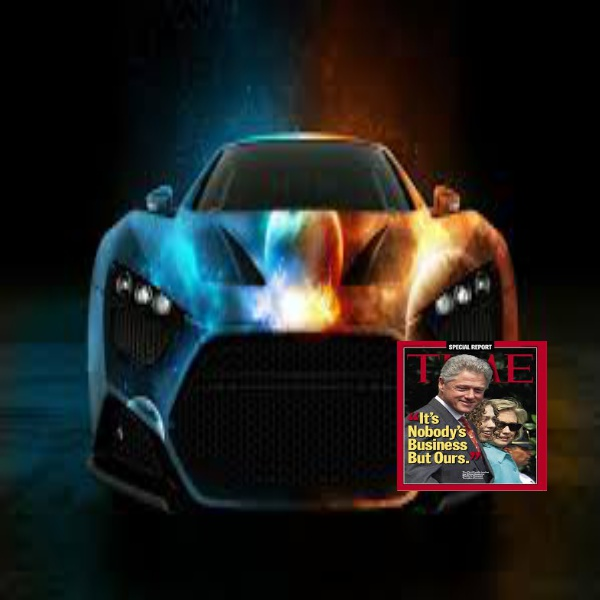time_cover: (385, 321, 554, 498)
